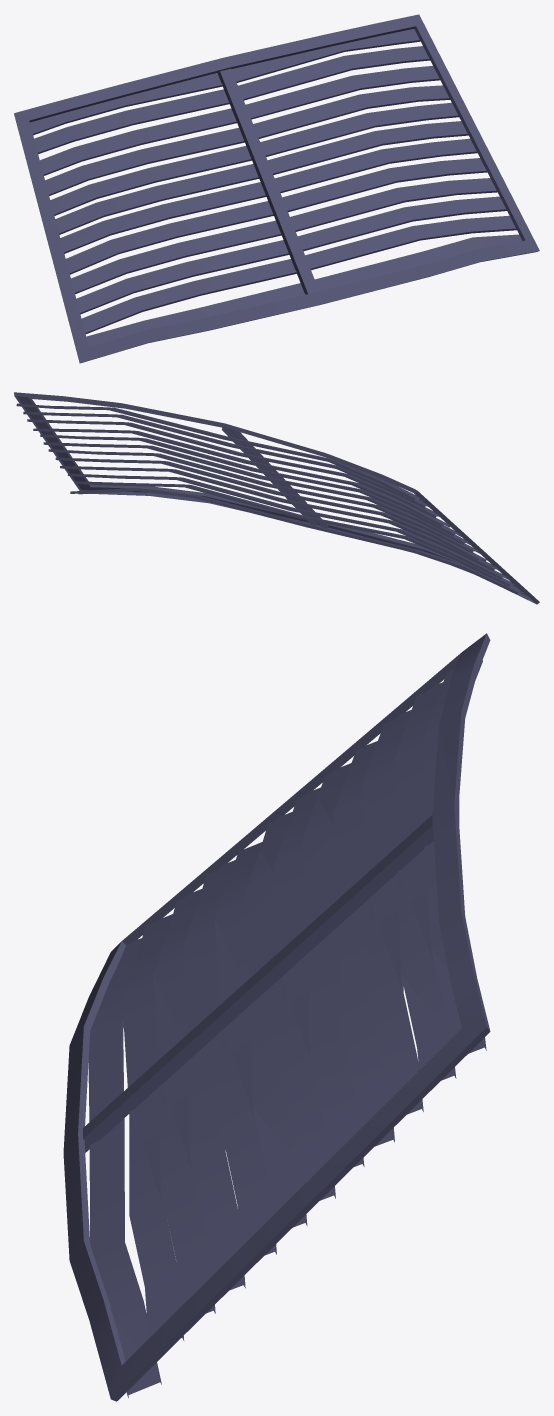
The model's file is window3.fbx.
The picture shows the model from 3 angles, top to bottom: view 1: azimuth 30°, elevation 25°; view 2: azimuth 150°, elevation 25°; view 3: azimuth 270°, elevation 25°; orthographic projection. The views are drawn at different scales.
Parts seen in each view (by area): view 1: instance_0.297; view 2: instance_0.297; view 3: instance_0.297.
Boxes of the visible parts, box(x1,y1,x2,y2) form: instance_0.297: box(14, 14, 539, 363); instance_0.297: box(14, 392, 539, 604); instance_0.297: box(63, 633, 490, 1401).
Bounding box in the file's own units: 207 × 80.77 × 83.35.
